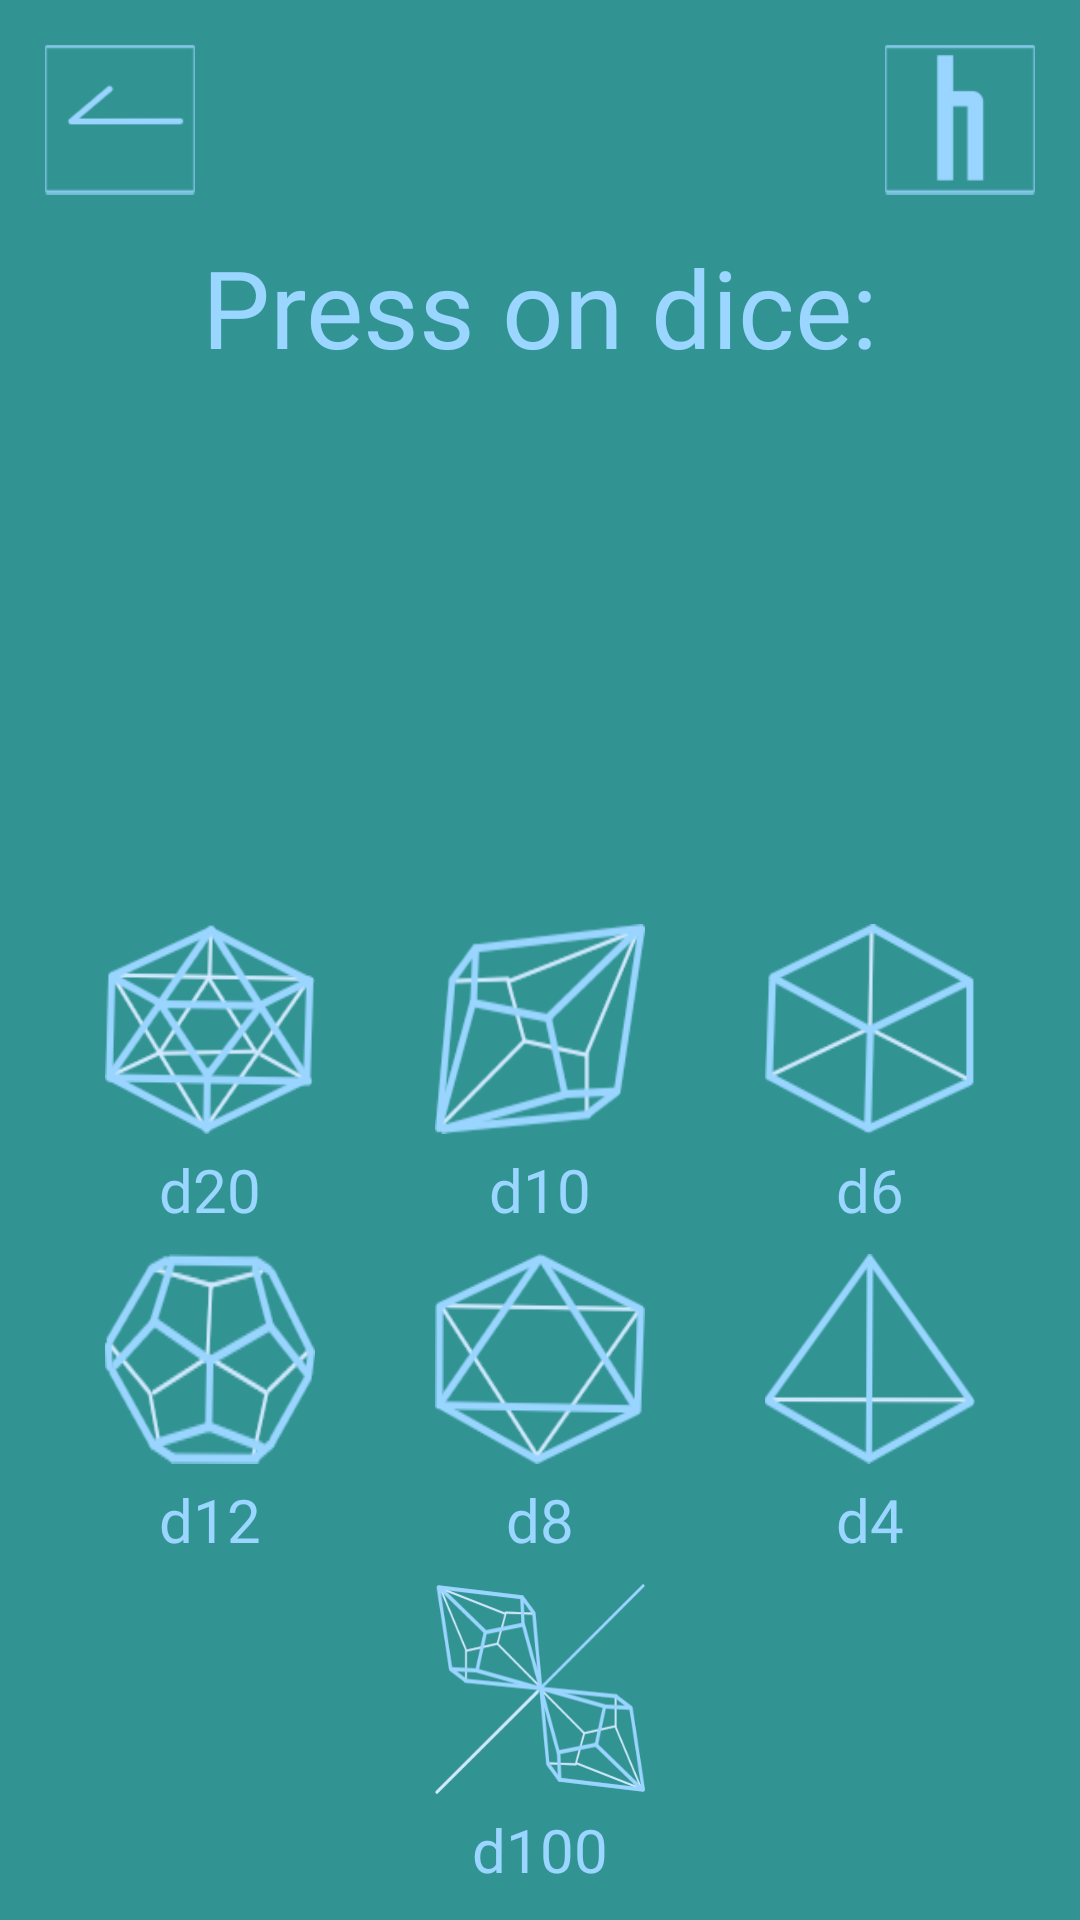

Icons on this 1080px x 1920px Android screen, each with the point to tap as point (x, y):
back: point (120, 120)
mini history: point (960, 120)
